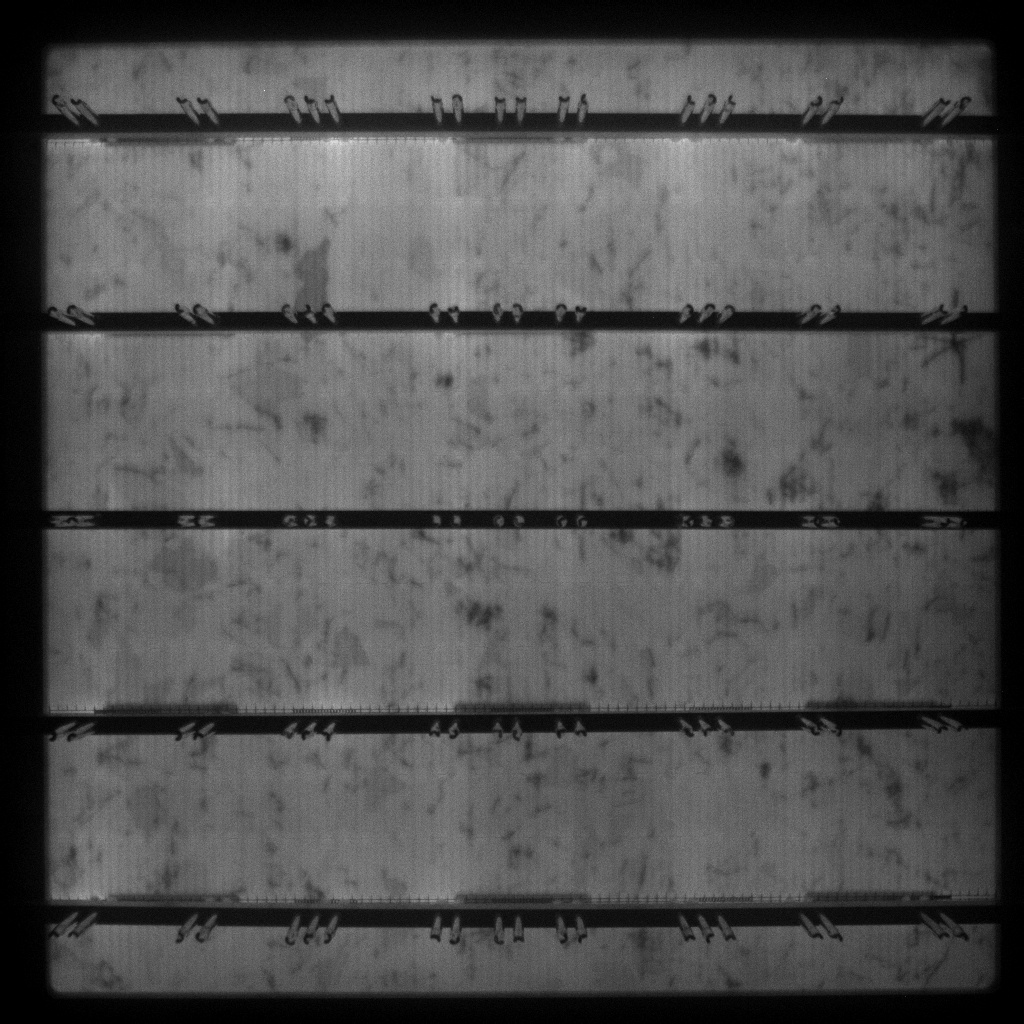crack: (916, 333, 977, 381)
